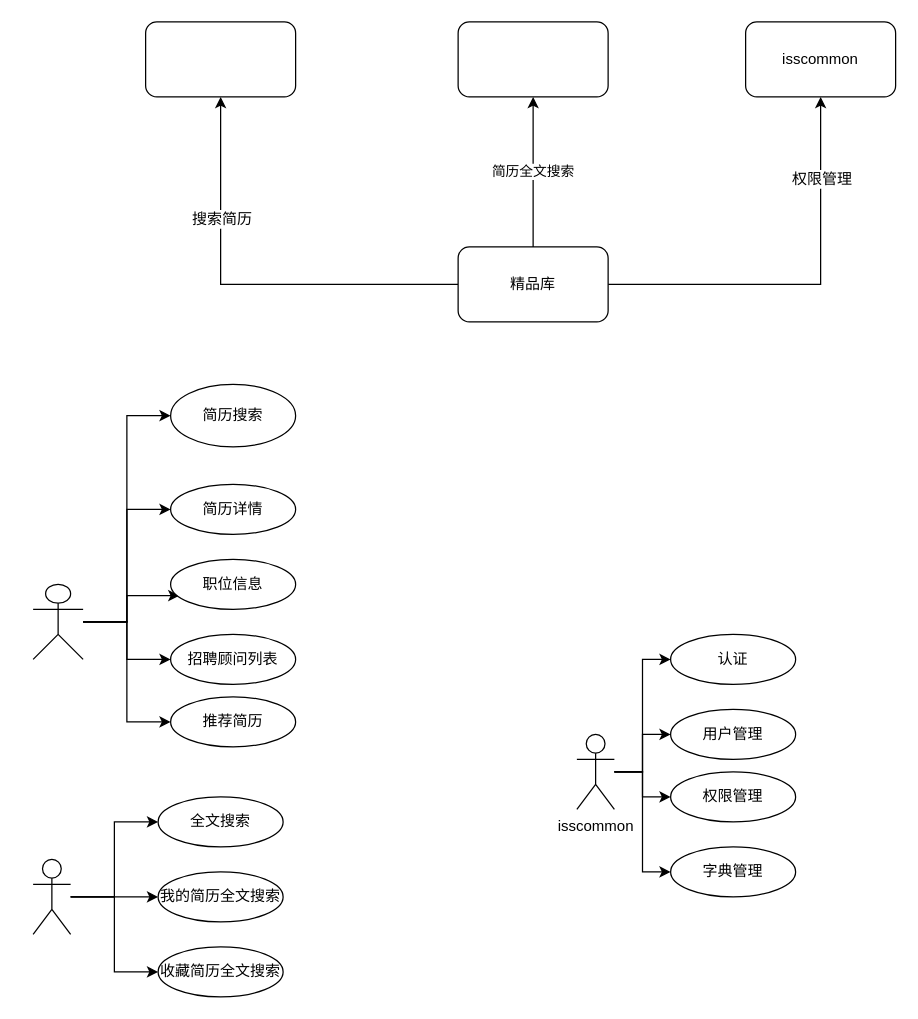
Image size: 918x1019. Some labels were removed from this diagram. The centre of each missing label's shape, as x and y in pixels:
搜索服务: point (51, 896)
搜索服务(内推): point (532, 59)
简历服务: point (57, 621)
通聘宝: point (220, 59)
